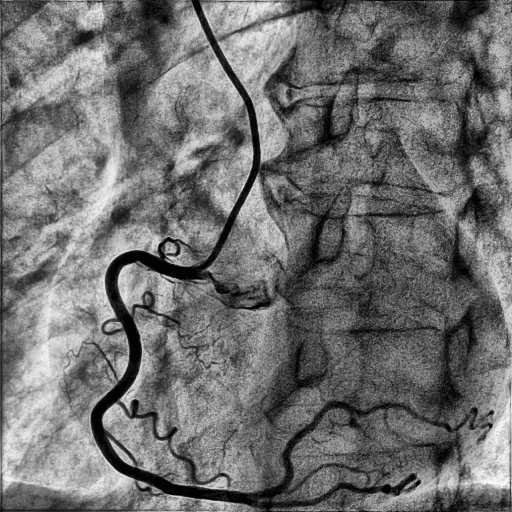pborca: (249, 400, 479, 499)
pda: (246, 474, 418, 508)
rca: (91, 250, 251, 504)
